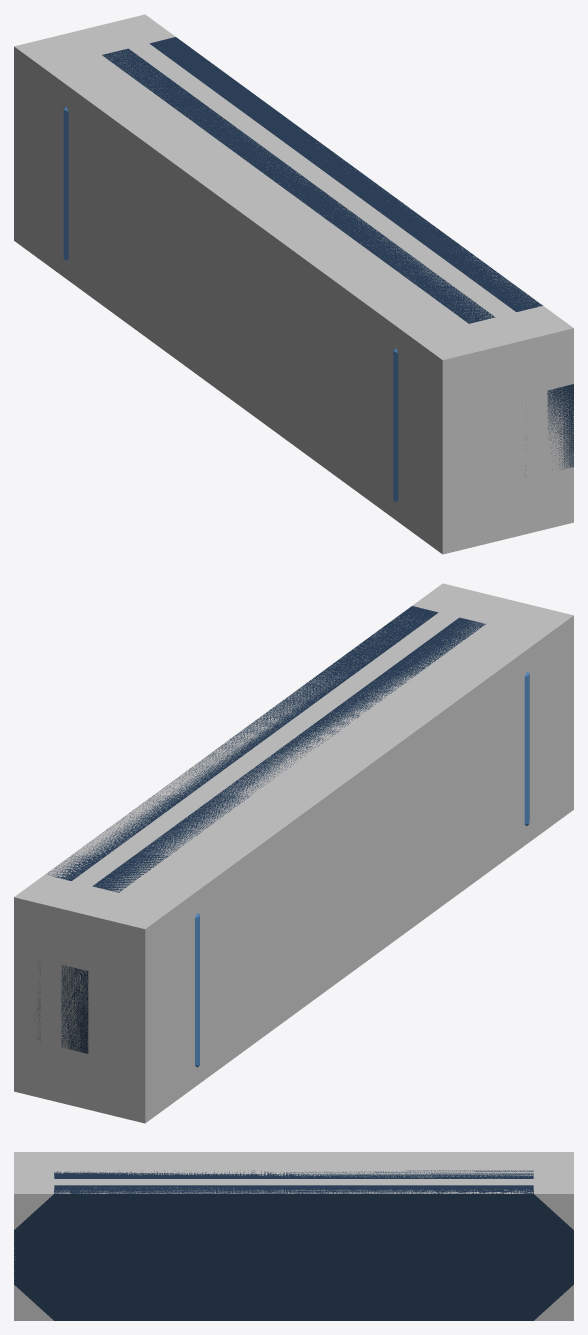
Rendered from SM_Billboard_15.fbx.
3 views of the same model, one above another, from view 1: azimuth 30°, elevation 25°; view 2: azimuth 150°, elevation 25°; view 3: azimuth 270°, elevation 25° (orthographic). The views are drawn at different scales.
Visible parts, largest first — view 1: SM_Billboard_15_ConvexHulls, SM_Billboard_15; view 2: SM_Billboard_15_ConvexHulls, SM_Billboard_15; view 3: SM_Billboard_15, SM_Billboard_15_ConvexHulls.
Boxes of the visible parts, bbox=[...] form: SM_Billboard_15_ConvexHulls: bbox=[14, 14, 573, 554]; SM_Billboard_15: bbox=[63, 37, 573, 501]; SM_Billboard_15_ConvexHulls: bbox=[14, 583, 573, 1123]; SM_Billboard_15: bbox=[34, 606, 529, 1067]; SM_Billboard_15: bbox=[14, 1170, 573, 1320]; SM_Billboard_15_ConvexHulls: bbox=[14, 1152, 573, 1320].
Bounding box in the file's own units: 164 × 912 × 228.
2 materials, 1 textured.
